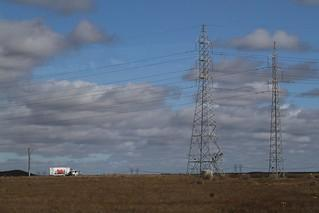power_tower: (189, 19, 229, 181), (256, 37, 288, 181)
